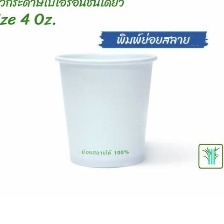paper_cup: (50, 48, 162, 172)
